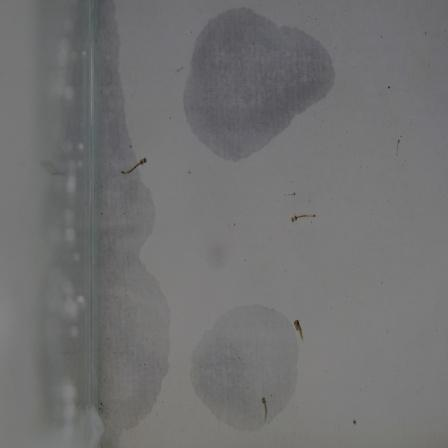Jentik-Nyamuk: (117, 154, 151, 179), (287, 206, 321, 231), (257, 392, 273, 426), (292, 314, 306, 342)
